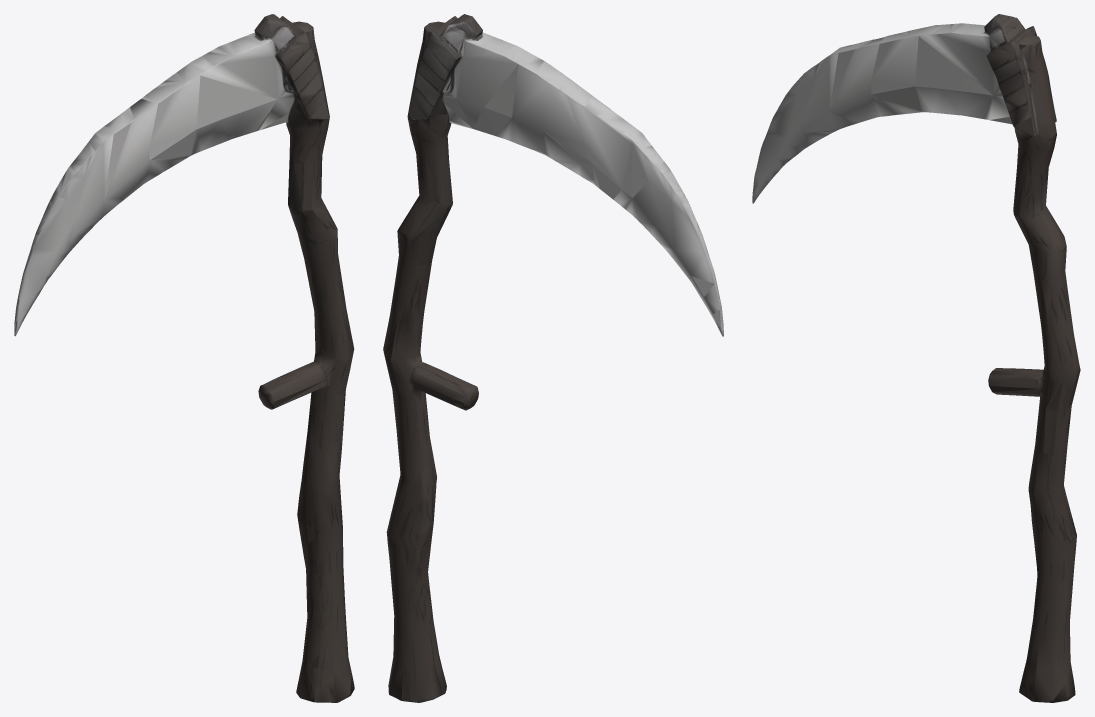
The model's file is scythe.fbx.
The picture shows the model from 3 angles, left to right: view 1: azimuth 30°, elevation 25°; view 2: azimuth 150°, elevation 25°; view 3: azimuth 330°, elevation 25°; orthographic projection. The views are drawn at different scales.
Parts seen in each view (by area): view 1: Mesh_0; view 2: Mesh_0; view 3: Mesh_0.
Boxes of the visible parts, x1,y1,x2,y2 form: Mesh_0: (14,14,354,702); Mesh_0: (383,14,723,702); Mesh_0: (752,14,1080,702).
Size of the model in its own units: 97.67 by 190 by 15.51.
1 material, 1 textured.
